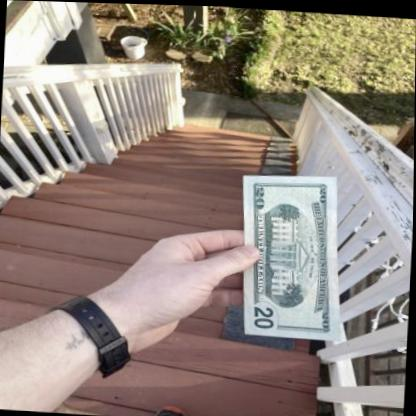dollar_back: (243, 174, 343, 339)
